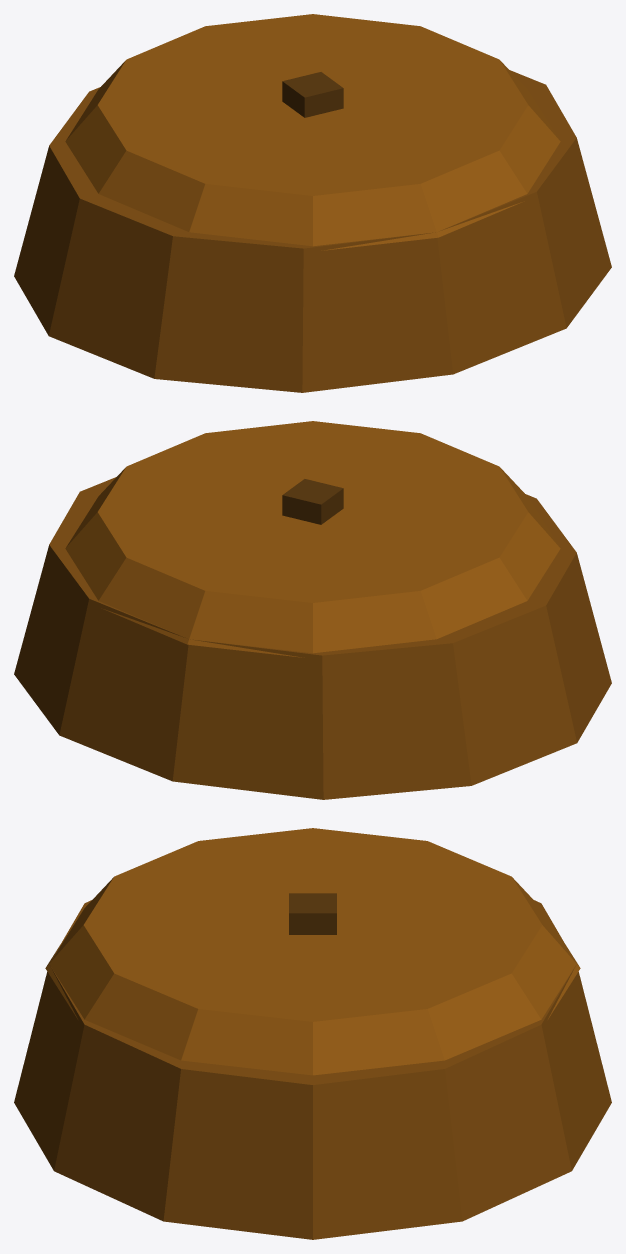
Rendered from cushion.obj.
3 views of the same model, one above another, from view 1: azimuth 30°, elevation 25°; view 2: azimuth 150°, elevation 25°; view 3: azimuth 270°, elevation 25° (orthographic). The views are drawn at different scales.
Size of the model in its own units: 0.68 by 0.23 by 0.6256.
